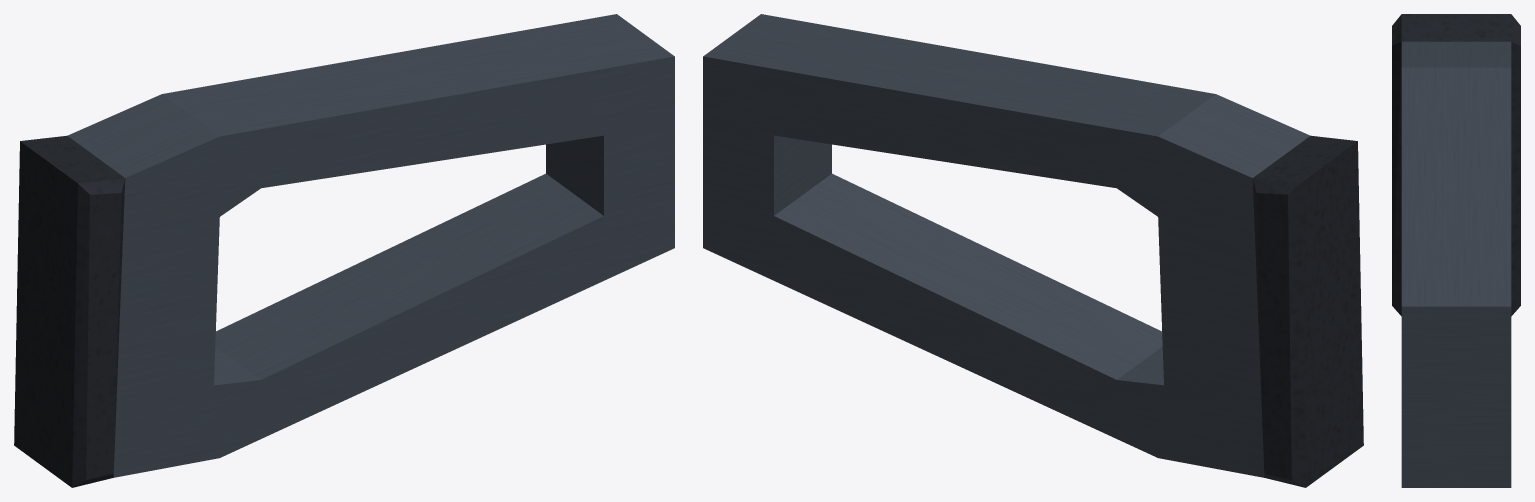
Rendered from stock_skeleton_v2.glb.
3 renders of one model, left to right at view 1: azimuth 30°, elevation 25°; view 2: azimuth 150°, elevation 25°; view 3: azimuth 270°, elevation 25°, orthographic. The views are drawn at different scales.
Visible parts, largest first — view 1: stock_skeleton_mesh; view 2: stock_skeleton_mesh; view 3: stock_skeleton_mesh.
Part boxes in pixels (x1,y1,x2,y2): stock_skeleton_mesh: (14, 14, 674, 487); stock_skeleton_mesh: (703, 14, 1363, 487); stock_skeleton_mesh: (1392, 14, 1520, 487).
Size of the model in its own units: 0.204 by 0.104 by 0.04.
Materials: 2 (2 with a texture image).
